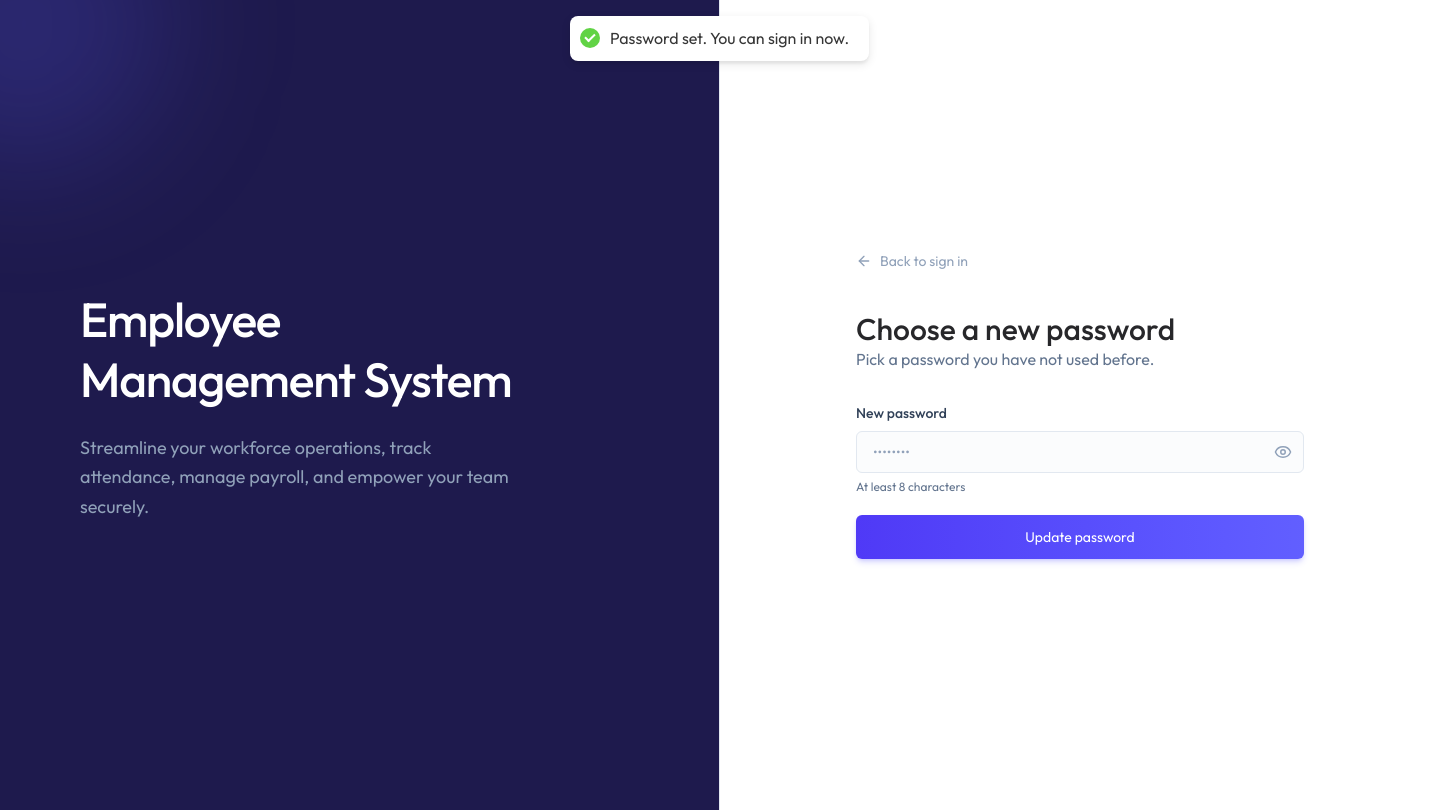
it: ResetPasswordForm › explains an expired link and offers a new one
Type "Chosen#12345" into the password field labelled "New password". click: (1080, 452)
box: [856, 431, 1304, 473]
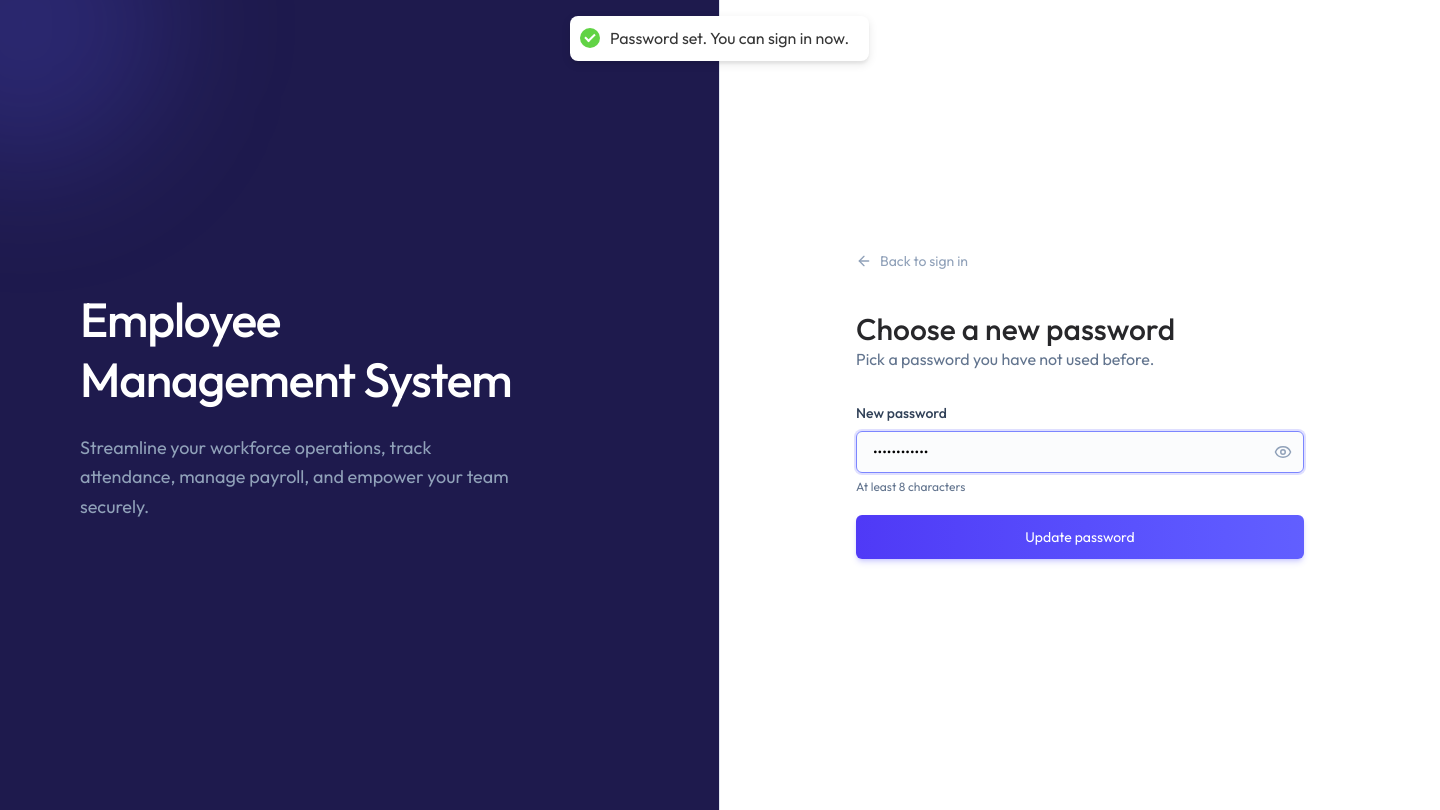
Click the button "Update password". click: (1080, 537)
box: [856, 515, 1304, 559]
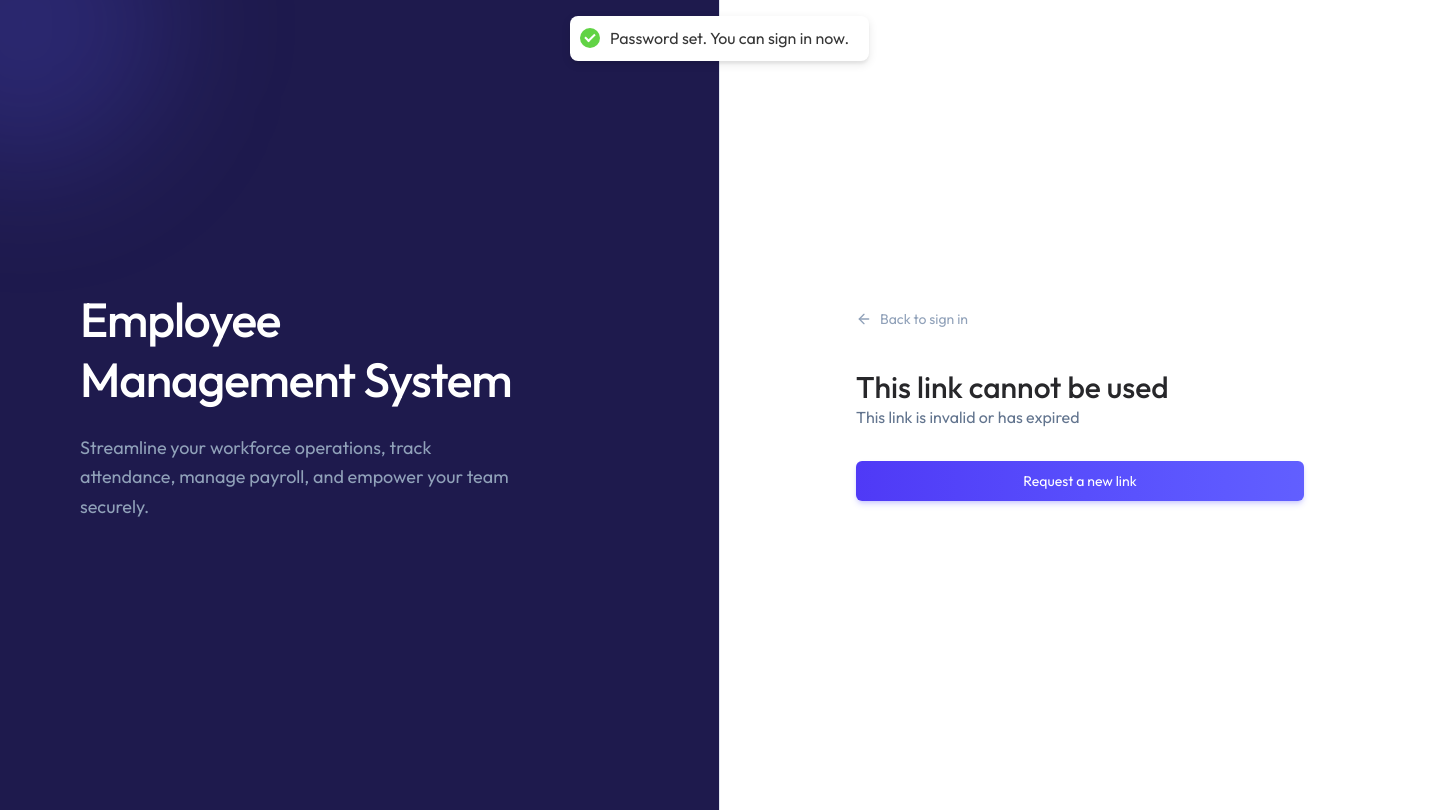
expect the heading "This link cannot be used" is shown: met, box [856, 368, 1169, 406]
expect the text "This link is invalid or has expired" is shown: met, box [856, 407, 1080, 427]
expect the link "Request a new link" is shown: met, box [856, 461, 1304, 501]
